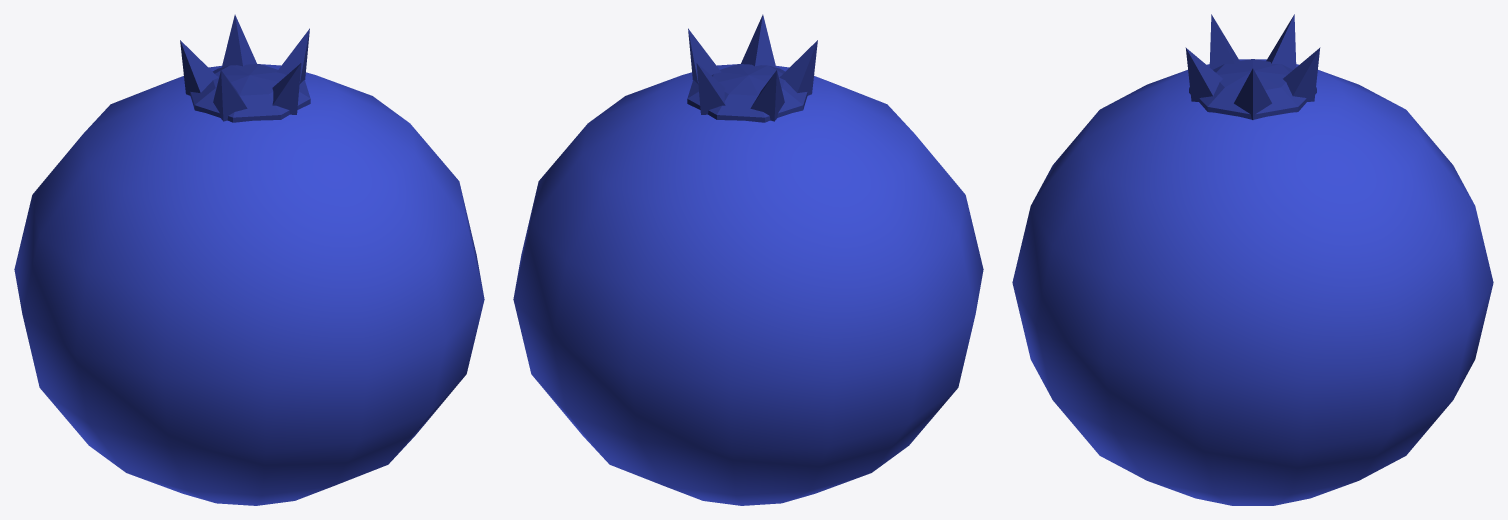
Rendered from Fruto_Blueberry.fbx.
The picture shows the model from 3 angles, left to right: view 1: azimuth 30°, elevation 25°; view 2: azimuth 150°, elevation 25°; view 3: azimuth 270°, elevation 25°; orthographic projection.
Parts seen in each view (by area): view 1: Produto_Blueberry; view 2: Produto_Blueberry; view 3: Produto_Blueberry.
Part boxes in pixels (bbox=[...]): Produto_Blueberry: bbox=[14, 14, 484, 505]; Produto_Blueberry: bbox=[513, 14, 983, 505]; Produto_Blueberry: bbox=[1012, 14, 1493, 505].
Bounding box in the file's own units: 0.4387 × 0.4593 × 0.45.
1 material, 1 textured.
